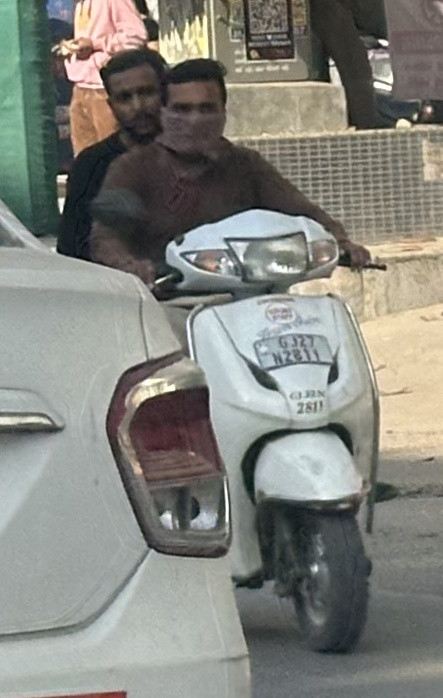BikeWithRider: (43, 40, 404, 660)
NoHelmet: (152, 52, 239, 167), (93, 40, 177, 150)
